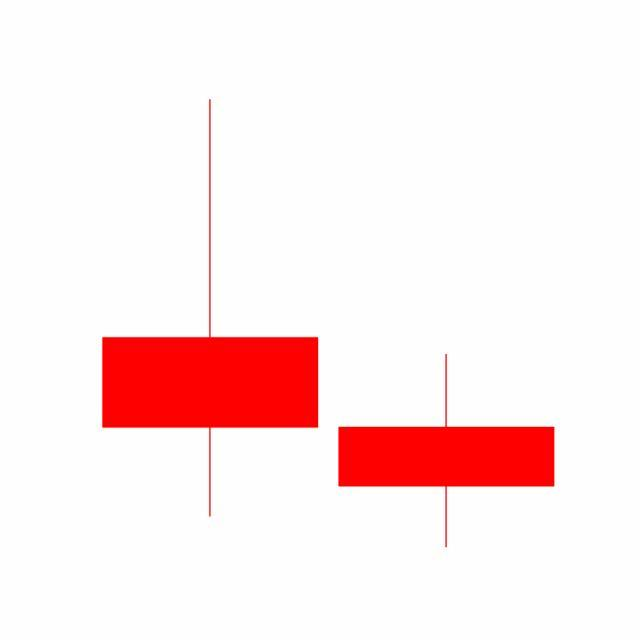Spinning Top: (328, 352, 566, 551)
